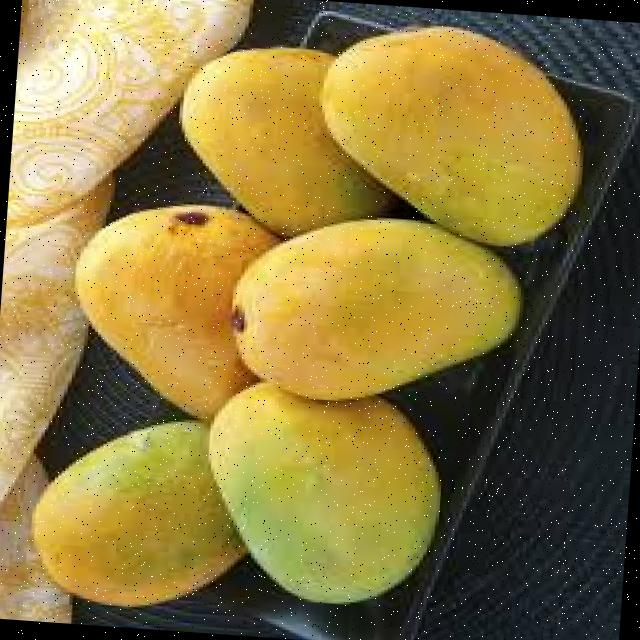mango: (230, 217, 527, 400)
